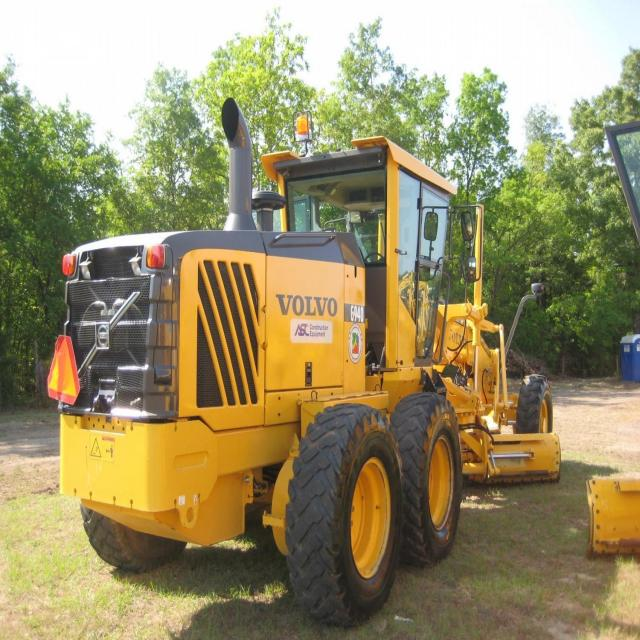Grader: (46, 102, 566, 626)
